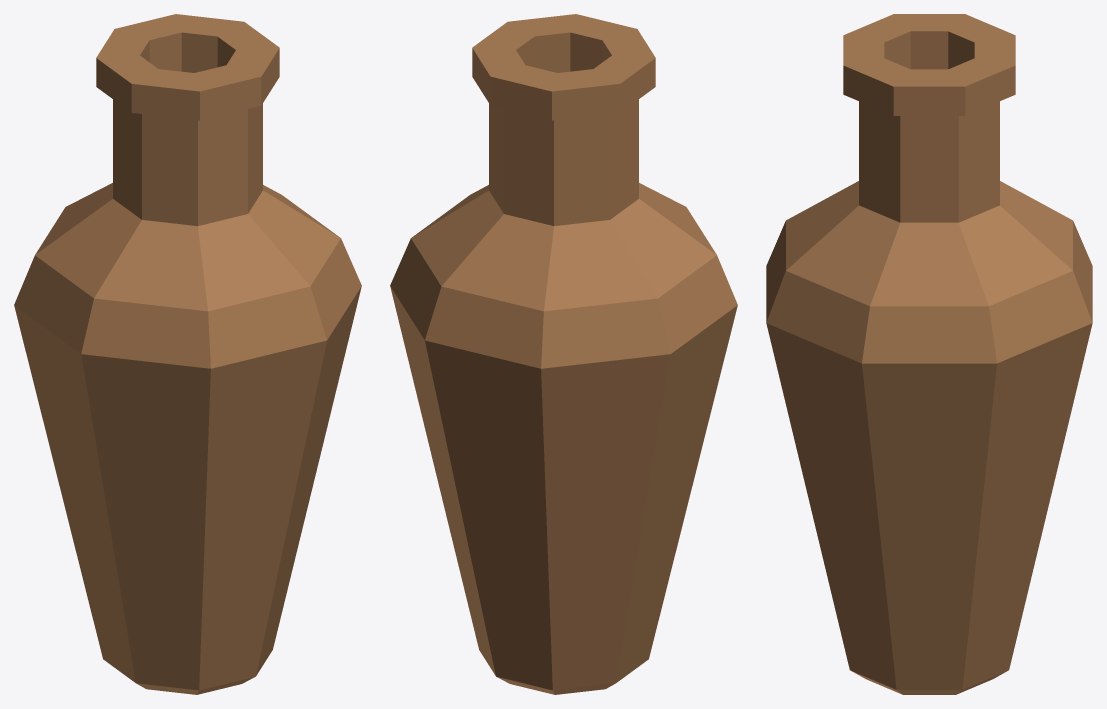
File: Jug_03.fbx
3 renders of one model, left to right at view 1: azimuth 30°, elevation 25°; view 2: azimuth 150°, elevation 25°; view 3: azimuth 270°, elevation 25°, orthographic.
Parts seen in each view (by area): view 1: Jug_03; view 2: Jug_03; view 3: Jug_03.
Part boxes in pixels (box(x1,y1,x2,y2)): Jug_03: box(14, 14, 361, 694); Jug_03: box(390, 14, 737, 694); Jug_03: box(766, 14, 1092, 694).
Bounding box in the file's own units: 30.55 × 63.8 × 30.55.
